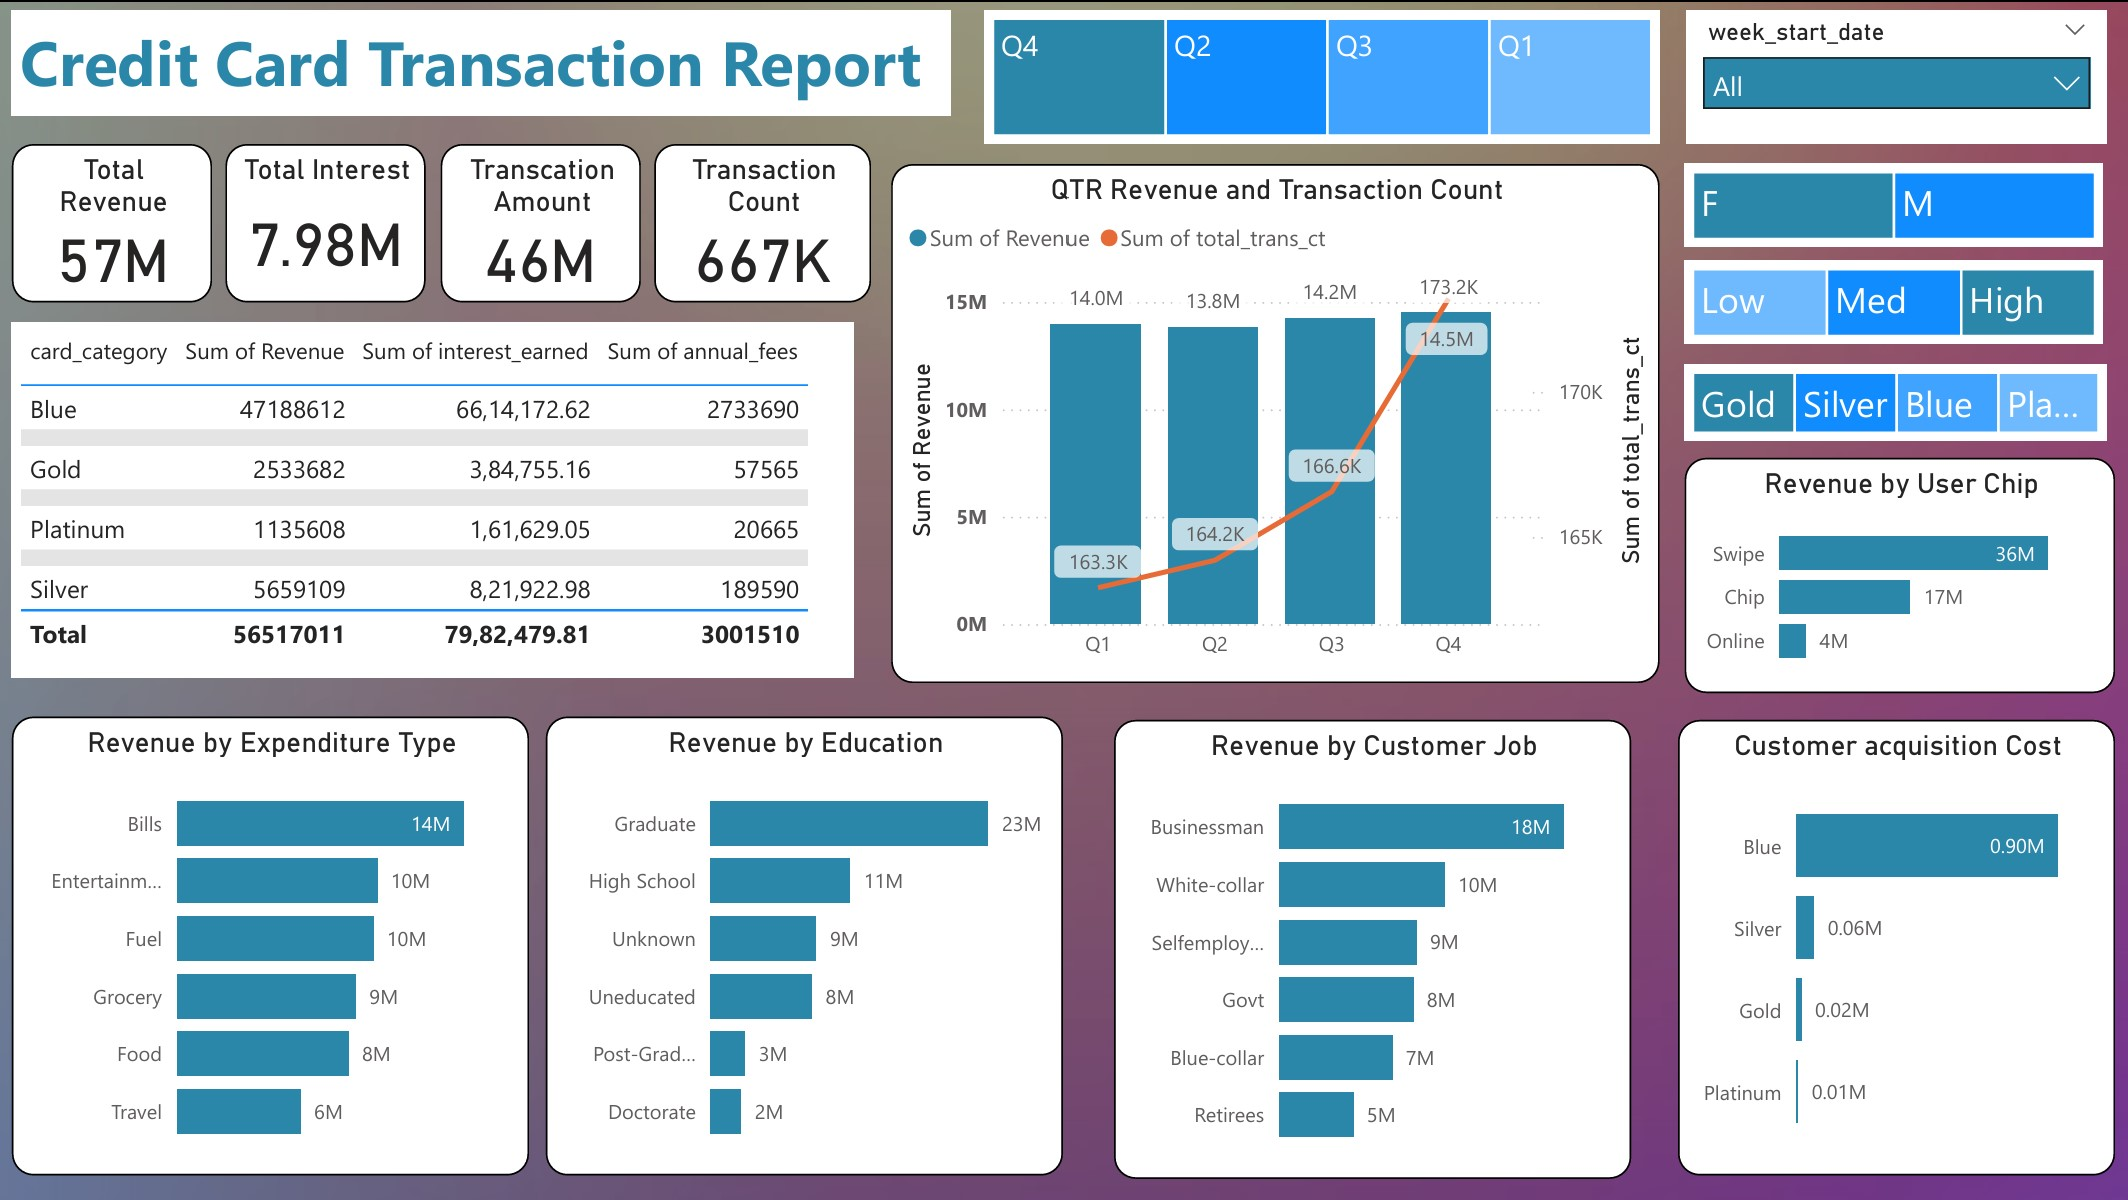

The dashboard page shown, as its layout file describes it:
{"tool":"powerbi","page":{"name":"CC Transaction","canvas":[1280,720],"ordinal":1},"visuals":[{"type":"textbox","box":[10,5,563.3,63.3],"z":0},{"type":"lineStackedColumnComboChart","title":"QTR Revenue and Transaction Count","fields":{"Category":["public cc_detail.qtr"],"Y":["Sum(public cc_detail.Revenue)"],"Y2":["Sum(public cc_detail.total_trans_ct)"]},"box":[536.7,96.7,460,311.7],"z":1000},{"type":"barChart","title":"Revenue by Expenditure Type","fields":{"Y":["Sum(public cc_detail.Revenue)"],"Category":["public cc_detail.exp_type"]},"box":[10,428.3,310,275],"z":2000},{"type":"barChart","title":"Revenue by Education","fields":{"Y":["Sum(public cc_detail.Revenue)"],"Category":["public cust_detail.education_level"]},"box":[330,428.3,310,275],"z":3000},{"type":"barChart","title":"Revenue by Customer Job","fields":{"Y":["Sum(public cc_detail.Revenue)"],"Category":["public cust_detail.customer_job"]},"box":[670,430,310,275],"z":4000},{"type":"barChart","title":"Customer acquisition Cost","fields":{"Y":["Sum(public cc_detail.customer_acq_cost)"],"Category":["public cc_detail.card_category"]},"box":[1008.3,430,261.7,273],"z":5000},{"type":"barChart","title":"Revenue by User Chip","fields":{"Y":["Sum(public cc_detail.Revenue)"],"Category":["public cc_detail.use_chip"]},"box":[1011.7,273.3,258.3,141],"z":6000},{"type":"tableEx","fields":{"Values":["public cc_detail.card_category","Sum(public cc_detail.Revenue)","Sum(public cc_detail.interest_earned)","Sum(public cc_detail.annual_fees)"]},"box":[10,191.7,505,213.3],"z":7000},{"type":"card","title":"Total Revenue","fields":{"Values":["Sum(public cc_detail.Revenue)"]},"box":[10,85,120,95],"z":8000},{"type":"card","title":"Total Interest","fields":{"Values":["Sum(public cc_detail.interest_earned)"]},"box":[138.3,85,120,95],"z":9000},{"type":"card","title":"Transcation Amount","fields":{"Values":["Sum(public cc_detail.total_trans_amt)"]},"box":[266.7,85,120,95],"z":10000},{"type":"card","title":"Transaction Count","fields":{"Values":["Sum(public cc_detail.total_trans_ct)"]},"box":[395,85,130,95],"z":11000},{"type":"slicer","fields":{"Values":["public cc_detail.week_start_date"]},"box":[1013.3,5,251.7,80],"z":12000},{"type":"treemap","fields":{"Group":["public cc_detail.qtr"],"Values":["CountNonNull(public cc_detail.client_num)"]},"box":[593.3,5,403.3,80],"z":13000},{"type":"treemap","fields":{"Group":["public cust_detail.gender"],"Values":["Avg(public cc_detail.client_num)"]},"box":[1011.7,96.7,251.7,50],"z":14000},{"type":"treemap","fields":{"Group":["public cust_detail.IncomeGroup"],"Values":["Avg(public cc_detail.client_num)"]},"box":[1011.7,155,251.7,50],"z":15000},{"type":"treemap","fields":{"Group":["public cc_detail.card_category"],"Values":["Avg(public cc_detail.client_num)"]},"box":[1011.7,216.7,253.3,46.7],"z":16000}]}

Visuals, with their boxes in screenshot pixels (x1, y1, x2, y2), scaled from the page's 1280x720 canvas onto the 2128x1200 screenshot:
textbox: x1=17 y1=8 x2=953 y2=114
"QTR Revenue and Transaction Count" lineStackedColumnComboChart: x1=892 y1=161 x2=1657 y2=681
"Revenue by Expenditure Type" barChart: x1=17 y1=714 x2=532 y2=1172
"Revenue by Education" barChart: x1=549 y1=714 x2=1064 y2=1172
"Revenue by Customer Job" barChart: x1=1114 y1=717 x2=1629 y2=1175
"Customer acquisition Cost" barChart: x1=1676 y1=717 x2=2111 y2=1172
"Revenue by User Chip" barChart: x1=1682 y1=456 x2=2111 y2=690
tableEx - public cc_detail.card_category x Sum(public cc_detail.Revenue): x1=17 y1=320 x2=856 y2=675
"Total Revenue" card: x1=17 y1=142 x2=216 y2=300
"Total Interest" card: x1=230 y1=142 x2=429 y2=300
"Transcation Amount" card: x1=443 y1=142 x2=643 y2=300
"Transaction Count" card: x1=657 y1=142 x2=873 y2=300
slicer - public cc_detail.week_start_date: x1=1685 y1=8 x2=2103 y2=142
treemap - public cc_detail.qtr x CountNonNull(public cc_detail.client_num): x1=986 y1=8 x2=1657 y2=142
treemap - public cust_detail.gender x Avg(public cc_detail.client_num): x1=1682 y1=161 x2=2100 y2=244
treemap - public cust_detail.IncomeGroup x Avg(public cc_detail.client_num): x1=1682 y1=258 x2=2100 y2=342
treemap - public cc_detail.card_category x Avg(public cc_detail.client_num): x1=1682 y1=361 x2=2103 y2=439
